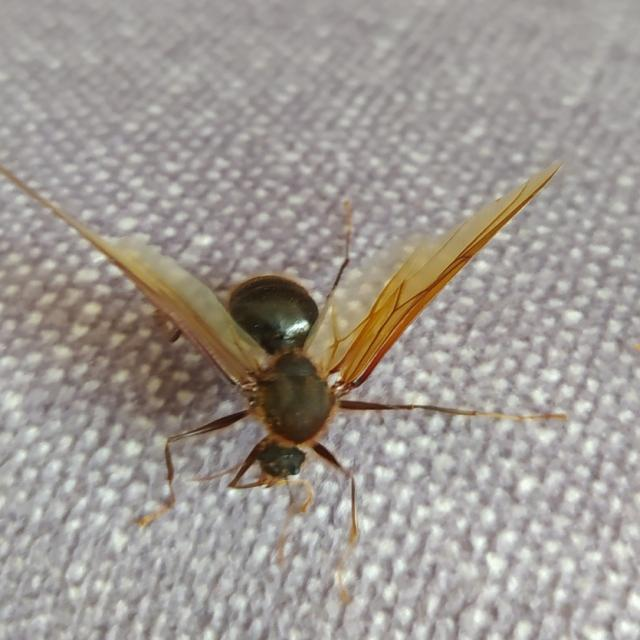Alive-Male-Alate: (0, 162, 570, 546)
